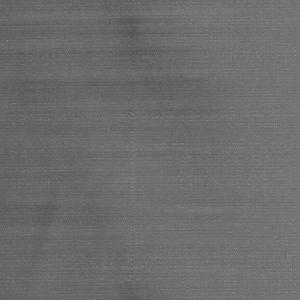Wrinkle: (9, 172, 74, 300)
